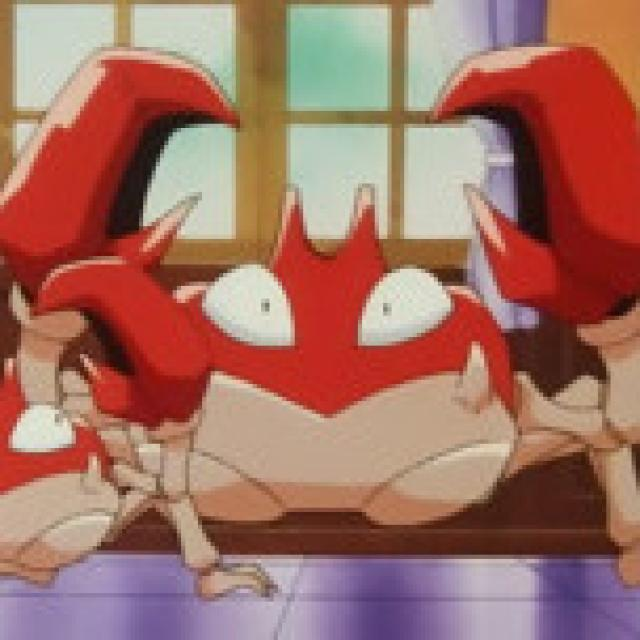Krabby: (101, 116, 626, 595), (0, 248, 282, 615)
